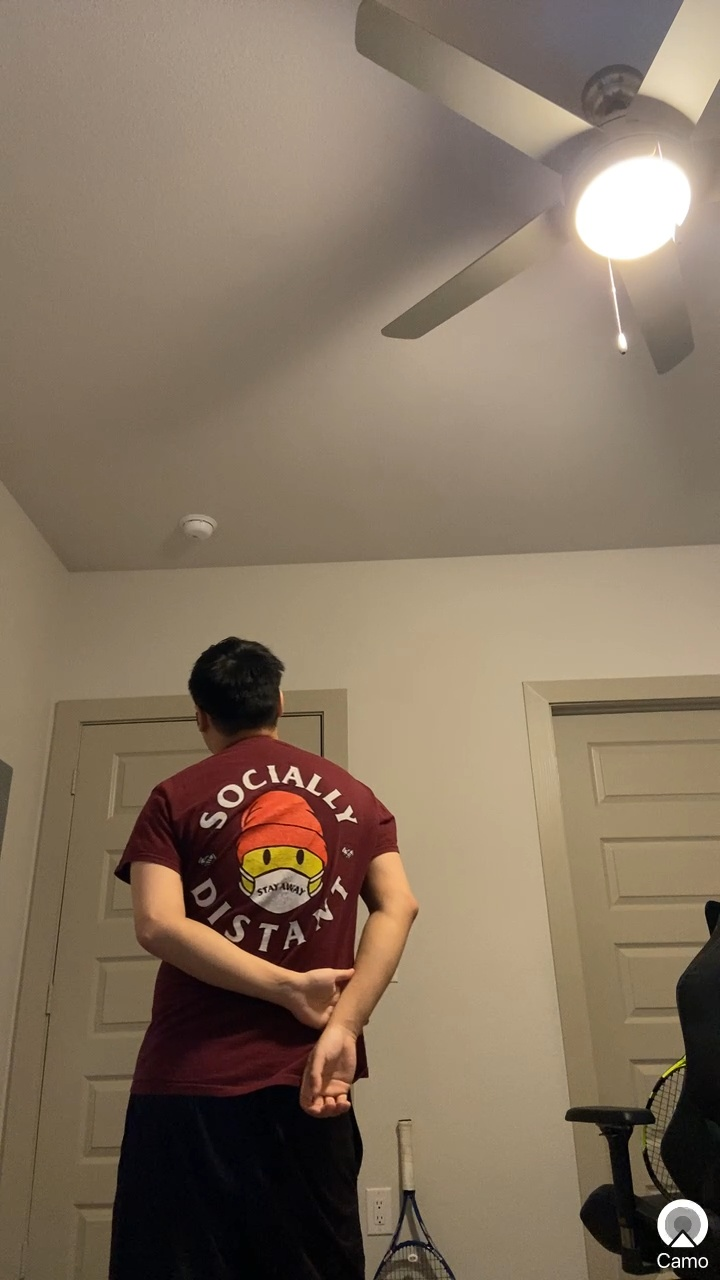Person: (81, 617, 429, 1280)
